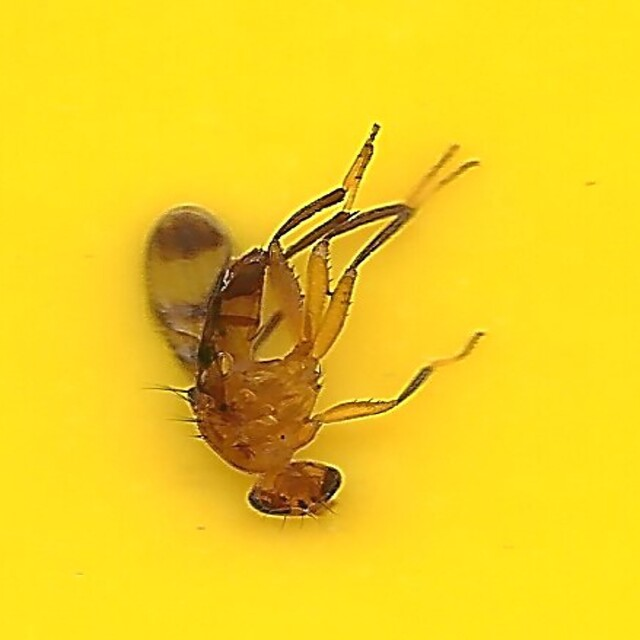Brachycera: (146, 118, 494, 522)
